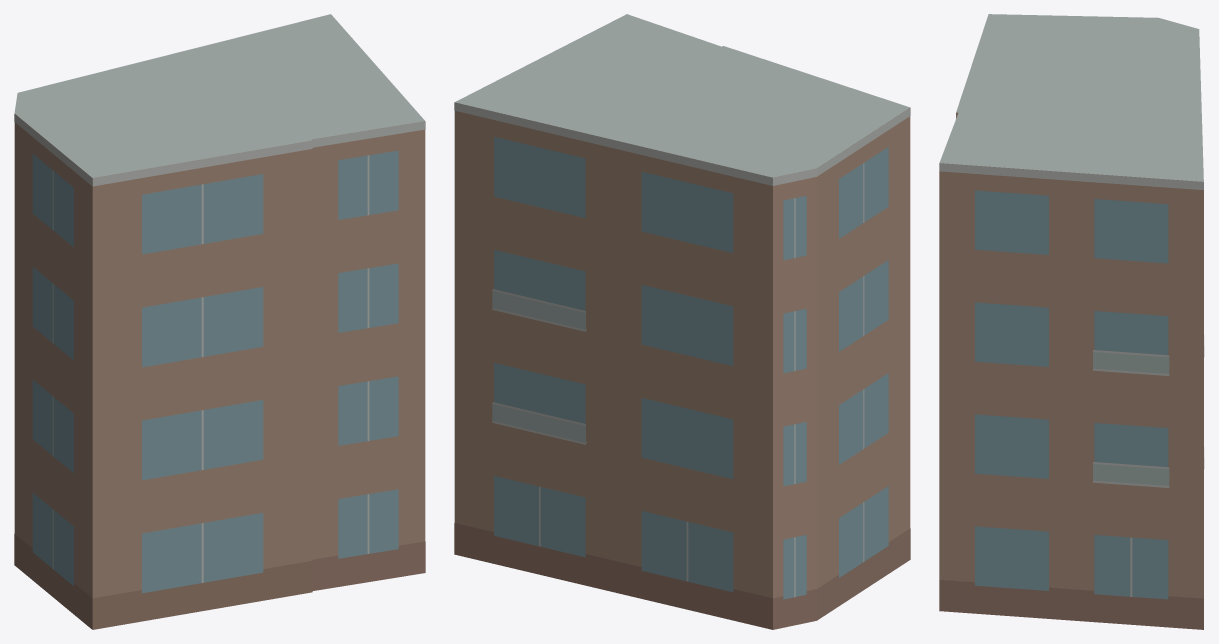
File: survey-upis-33033123.glb
3 views of the same model, side by side, from view 1: azimuth 30°, elevation 25°; view 2: azimuth 150°, elevation 25°; view 3: azimuth 270°, elevation 25° (orthographic).
Visible parts, largest first — view 1: survey-upis-33033123.tmp; view 2: survey-upis-33033123.tmp; view 3: survey-upis-33033123.tmp.
Boxes of the visible parts, x1,y1,x2,y2 form: survey-upis-33033123.tmp: (14,14,425,629); survey-upis-33033123.tmp: (454,14,910,629); survey-upis-33033123.tmp: (939,14,1204,629).
Bounding box in the file's own units: 10.62 × 13.2 × 7.1.
